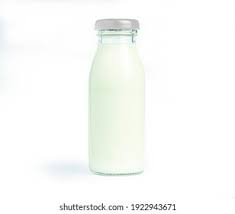milk: (78, 11, 164, 186)
